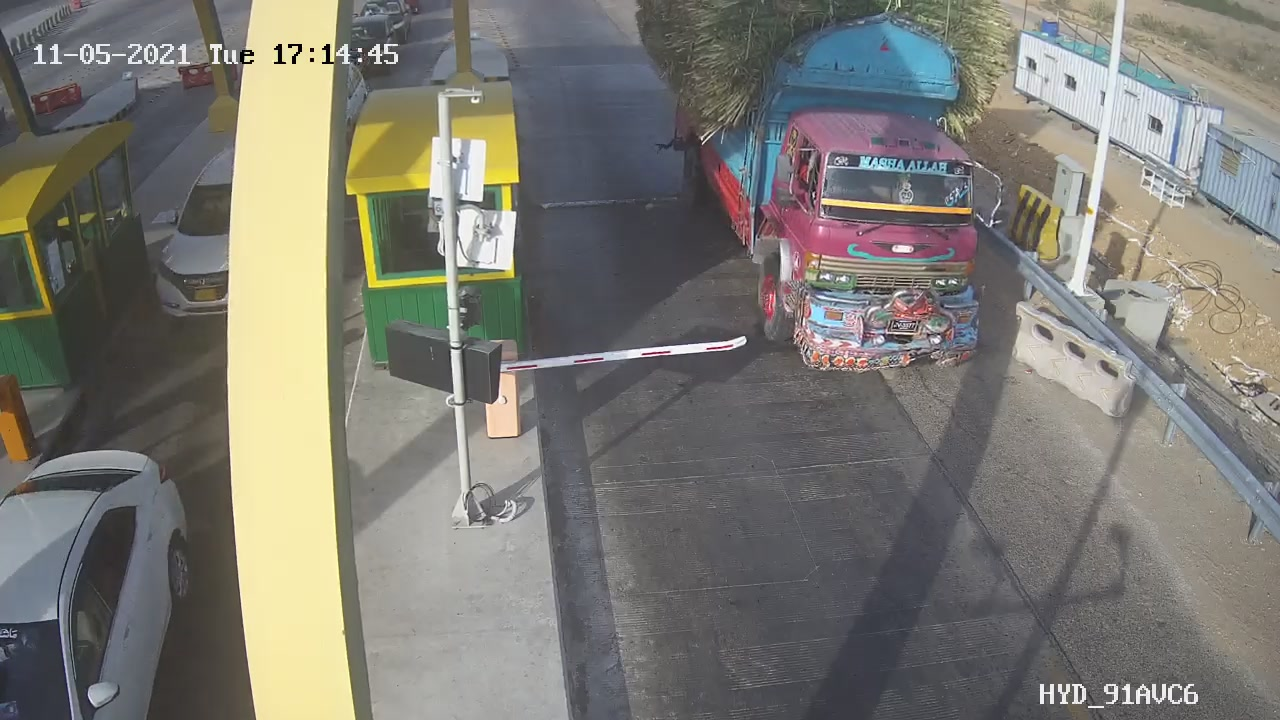F5: (635, 1, 1022, 392)
